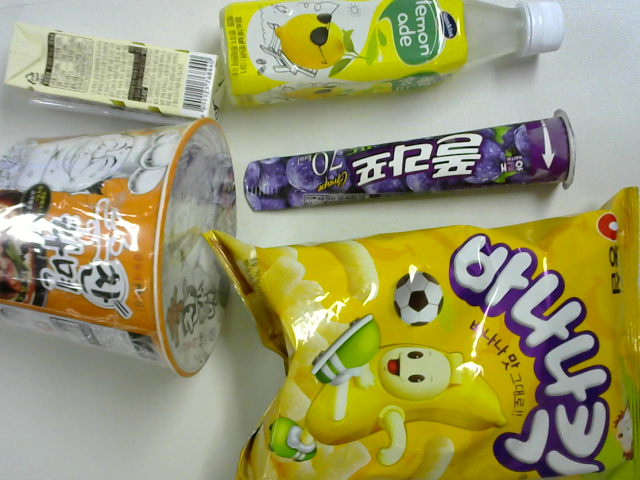99.89_Soymilk: (7, 18, 221, 120)
Banana_Kick: (207, 192, 637, 480)
Hejangchan: (1, 118, 237, 384)
Polapo_Grape: (239, 112, 577, 208)
Sunkist_Lemonaid_Pet: (219, 4, 561, 102)
